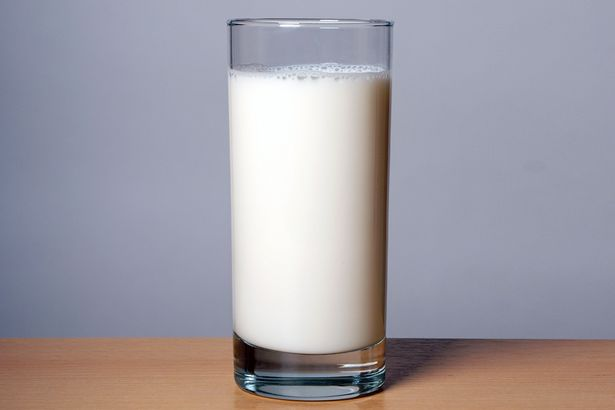glass of milk: (216, 12, 401, 408)
